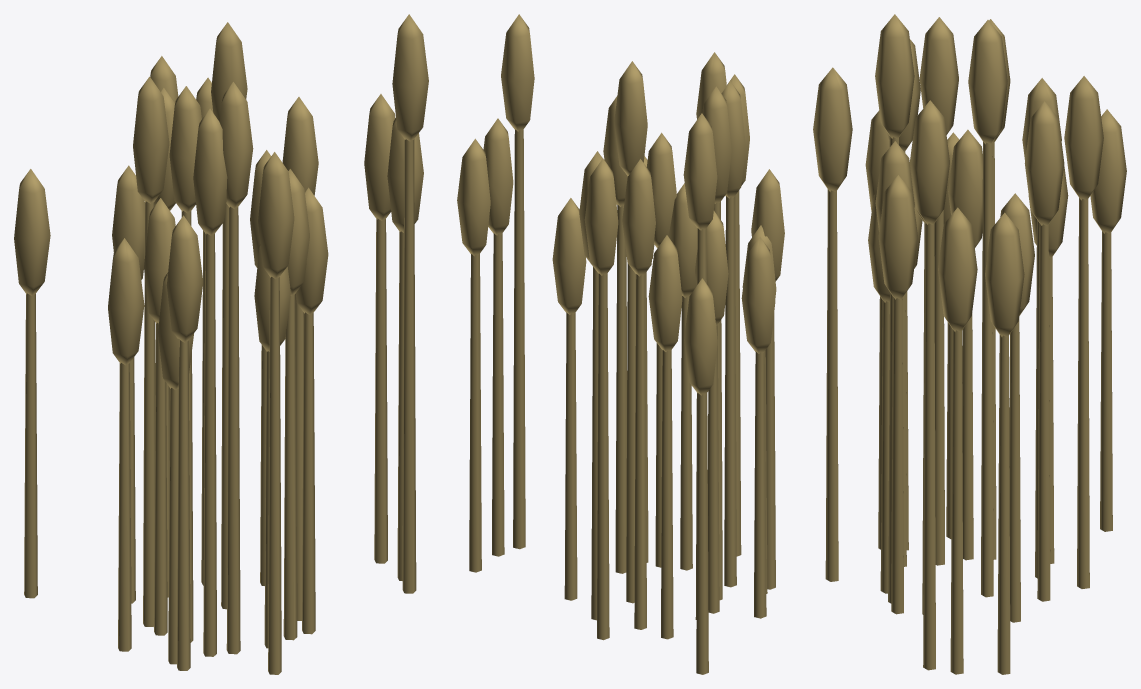
File: grain-clump.glb
The picture shows the model from 3 angles, left to right: view 1: azimuth 30°, elevation 25°; view 2: azimuth 150°, elevation 25°; view 3: azimuth 270°, elevation 25°; orthographic projection. The views are drawn at different scales.
Visible parts, largest first — view 1: grain-clump; view 2: grain-clump; view 3: grain-clump.
Boxes of the visible parts, <box> form: grain-clump: <box>14,14,428,674</box>; grain-clump: <box>457,14,784,674</box>; grain-clump: <box>813,14,1126,674</box>.
Bounding box in the file's own units: 0.6265 × 1.07 × 0.5273.
